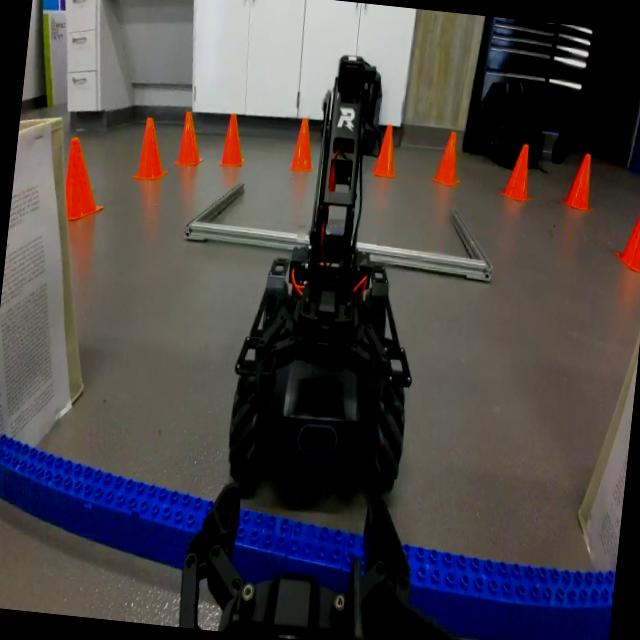cone: (58, 135, 112, 223), (131, 108, 173, 185), (499, 137, 543, 206), (560, 146, 602, 218), (609, 187, 640, 273), (430, 123, 468, 189), (172, 104, 208, 170), (218, 106, 250, 169), (289, 111, 317, 176), (373, 122, 402, 178)
river: (0, 436, 622, 640)
robot: (222, 36, 450, 498)
